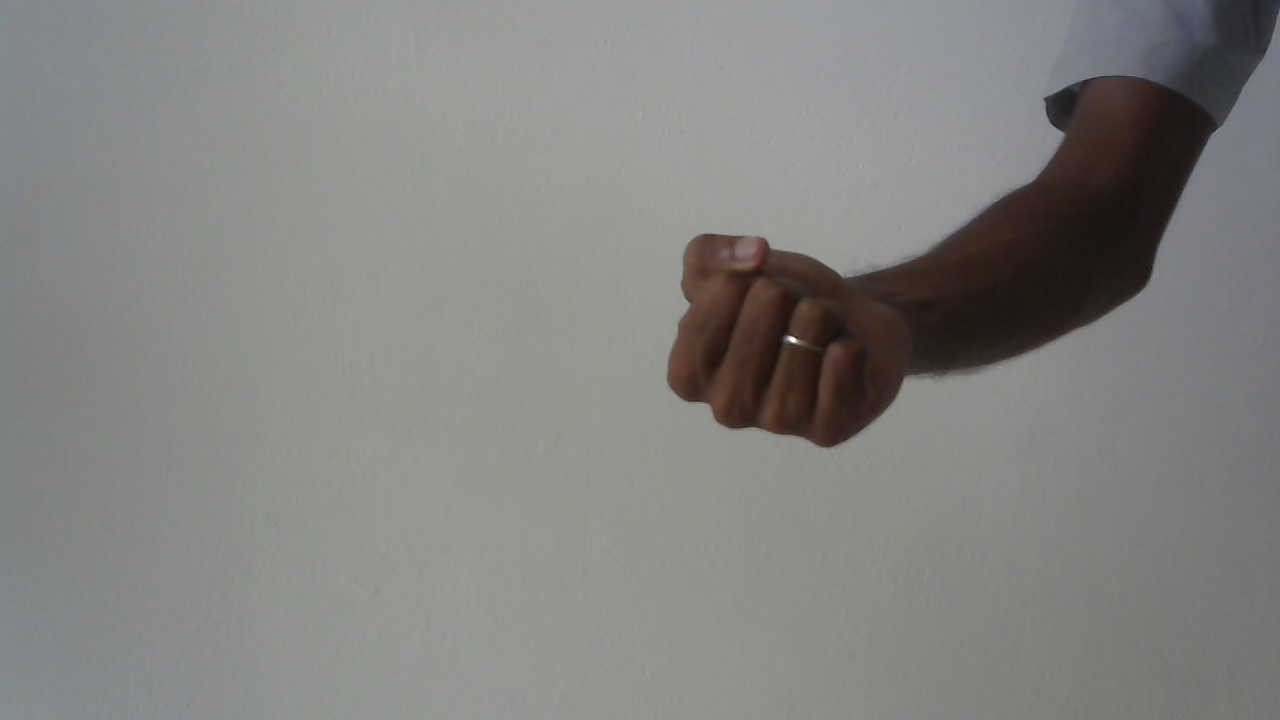yes: (654, 204, 932, 464)
